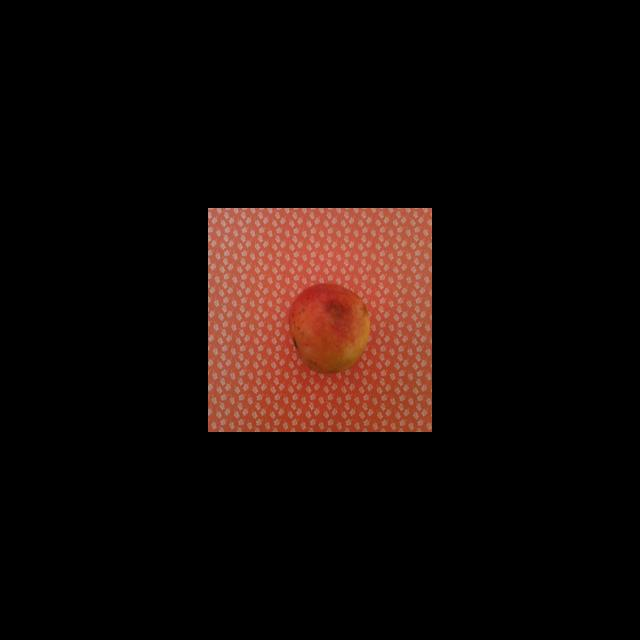Mango: (287, 282, 370, 373)
